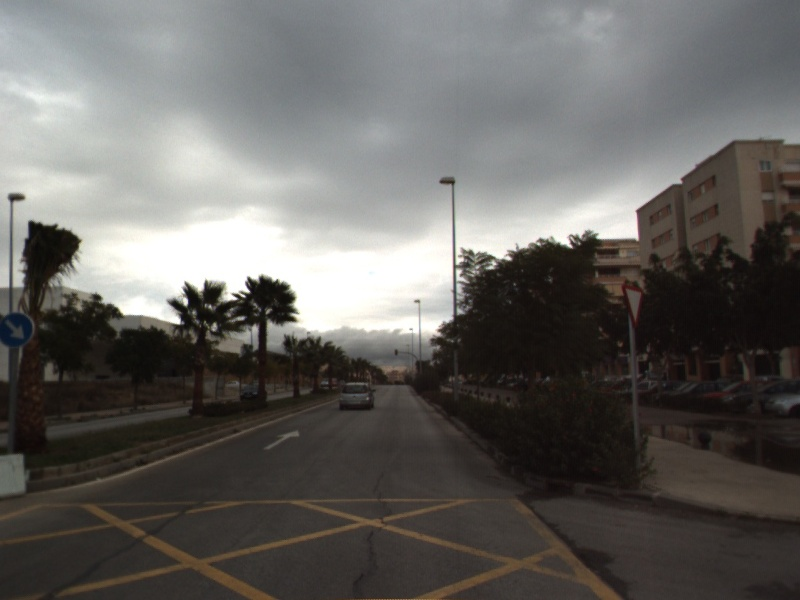STRAIGHT: (262, 428, 301, 451)
